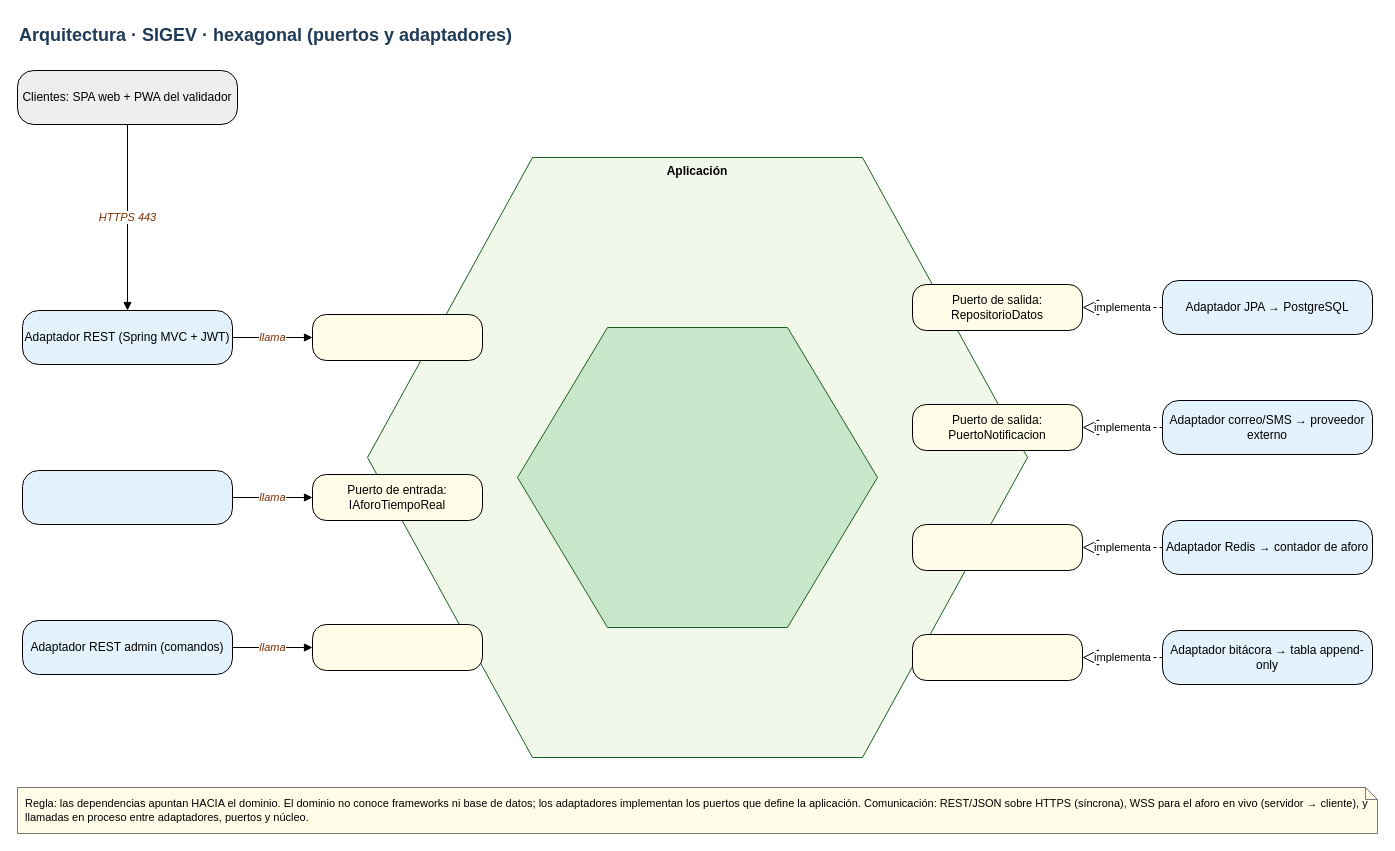
Image size: 1395x851. Some labels were removed from this diagram. Each missing label, with the centre of its shape:
"Adaptador WebSocket (WSS)" belongs at (x=127, y=497).
"Dominio" belongs at (x=697, y=477).
"Puerto de entrada: ICasosDeUso (REST)" belongs at (x=397, y=337).
"Puerto de entrada: IComandos" belongs at (x=397, y=647).
"Puerto de salida: PuertoAuditoria" belongs at (x=997, y=657).
"Puerto de salida: PuertoContadorAforo" belongs at (x=997, y=547).
